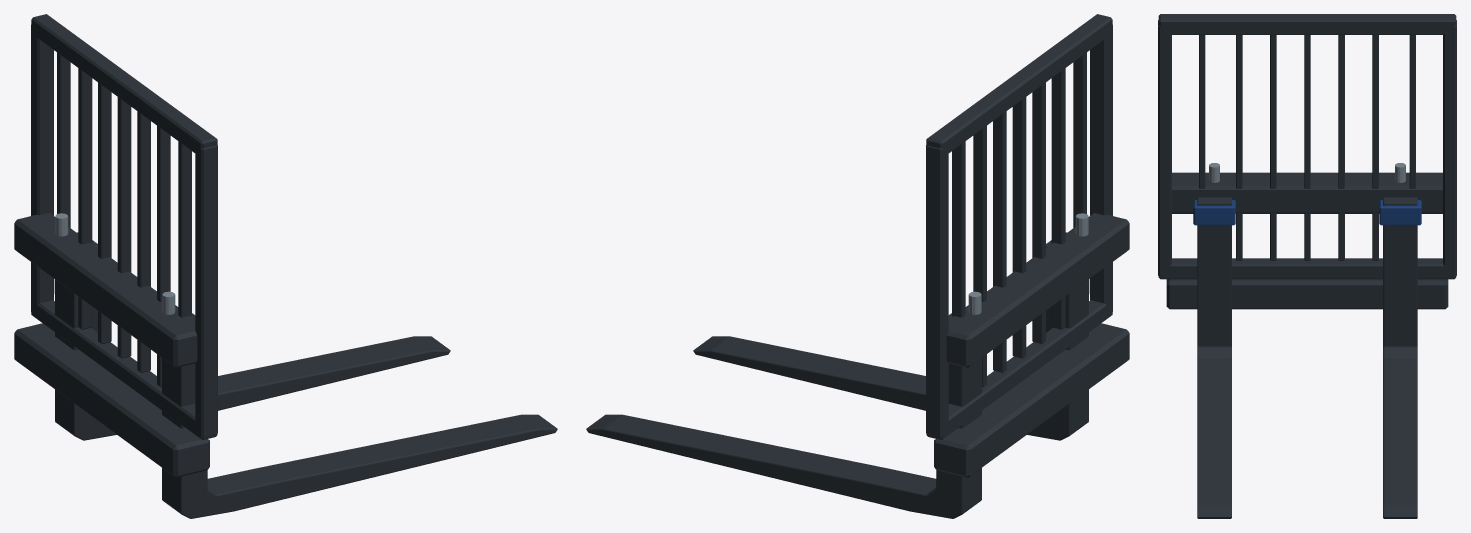
The model's file is SM_Replay_ForkliftCarriage.fbx.
3 renders of one model, left to right at view 1: azimuth 30°, elevation 25°; view 2: azimuth 150°, elevation 25°; view 3: azimuth 270°, elevation 25°, orthographic. The views are drawn at different scales.
Visible parts, largest first — view 1: SM_Replay_ForkliftCarriage; view 2: SM_Replay_ForkliftCarriage; view 3: SM_Replay_ForkliftCarriage.
Part boxes in pixels (x1=…): SM_Replay_ForkliftCarriage: x1=14, y1=14, x2=557, y2=518; SM_Replay_ForkliftCarriage: x1=586, y1=14, x2=1129, y2=518; SM_Replay_ForkliftCarriage: x1=1158, y1=14, x2=1456, y2=518.
Size of the model in its own units: 130 by 96.5 by 123.
